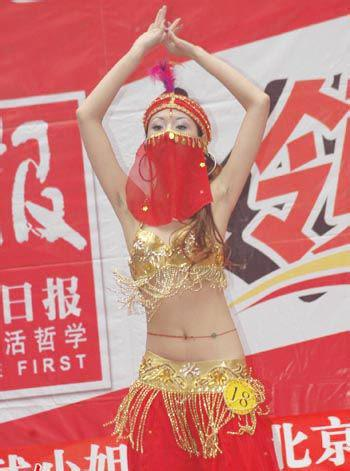OK: (146, 113, 200, 167)
